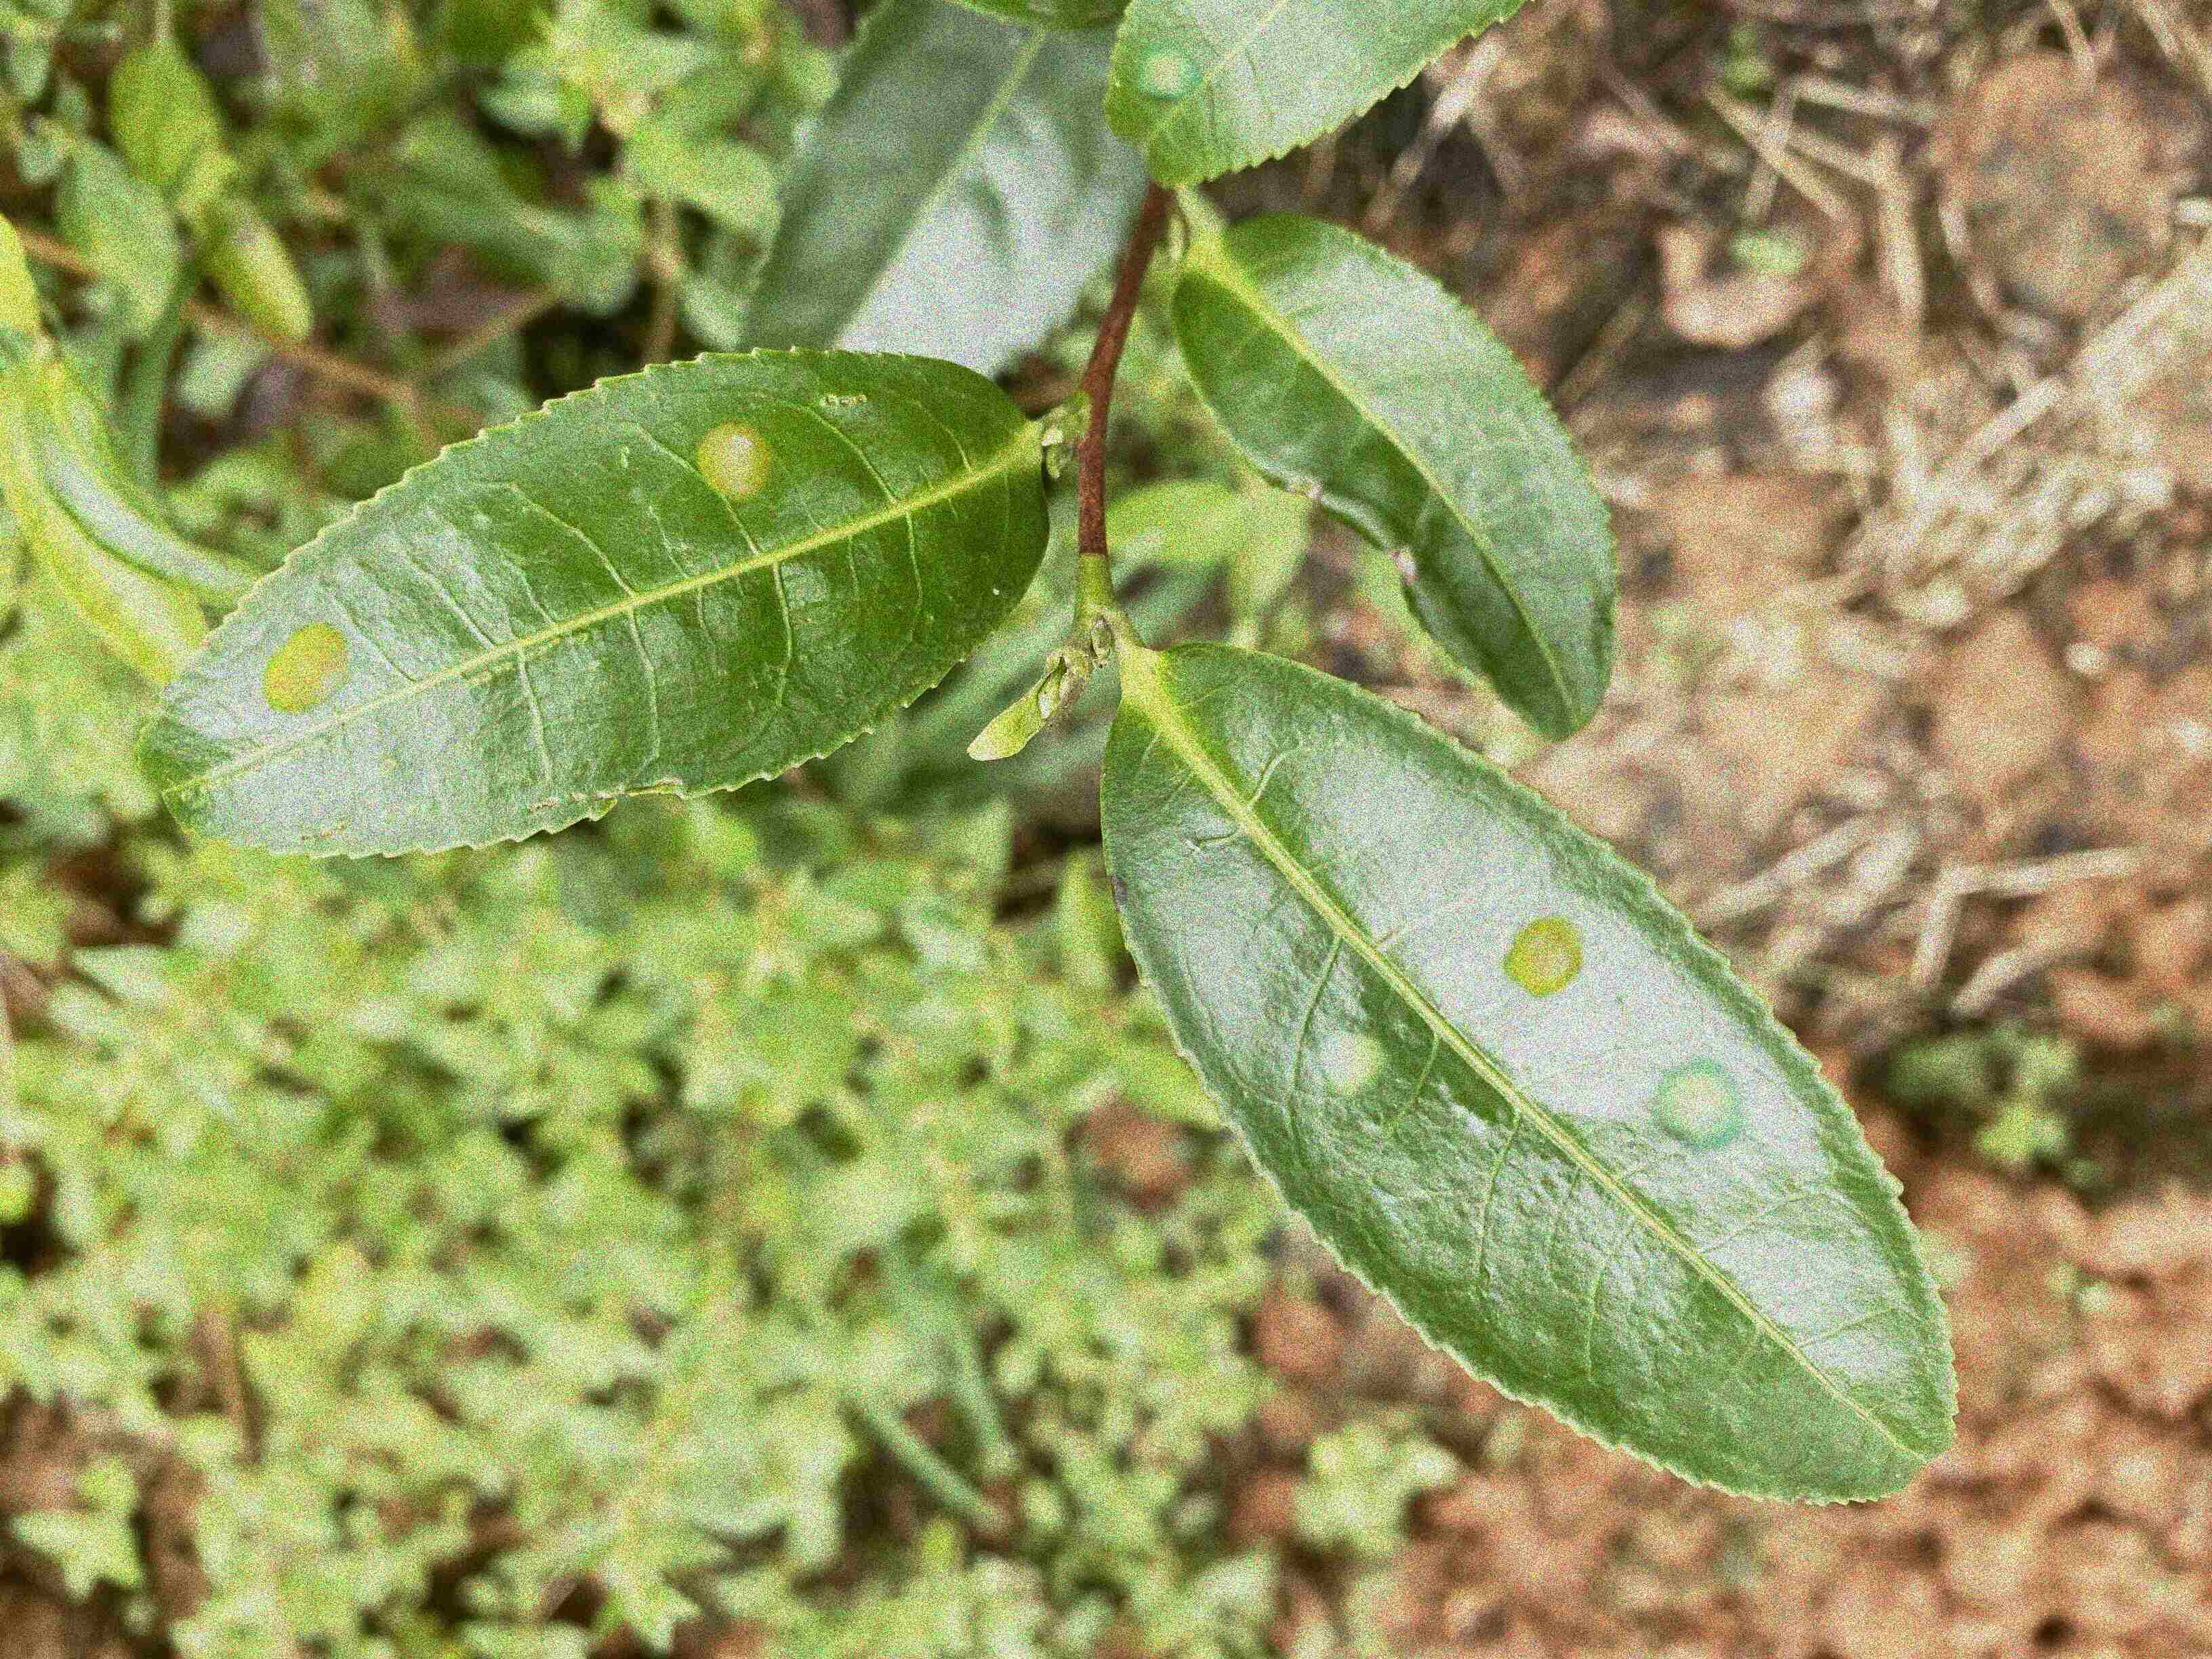chabing_high: (1097, 638, 1965, 1506), (132, 345, 1054, 859)
chabing_low: (1099, 3, 1540, 190)
tanju_low: (1163, 209, 1620, 742)
